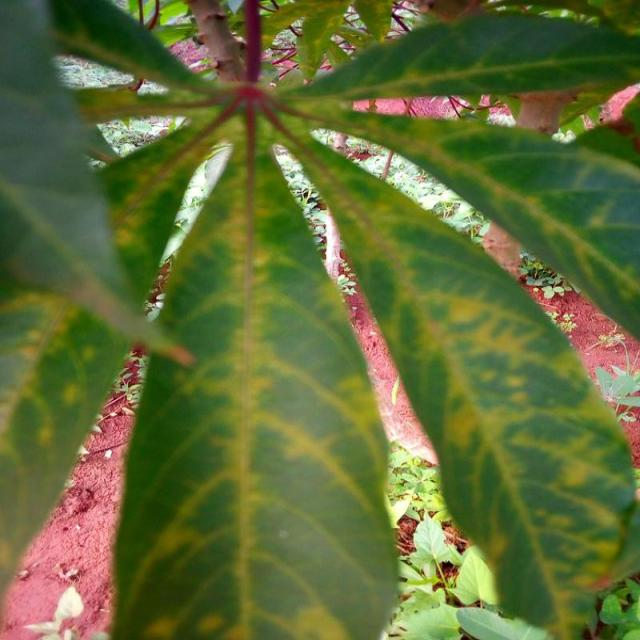cassava leaf: (1, 1, 638, 638), (272, 126, 638, 637), (108, 139, 399, 638)
